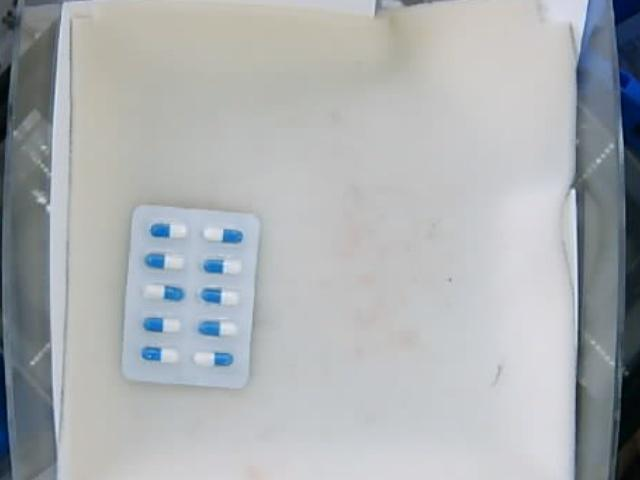Medicine: (121, 203, 258, 387)
